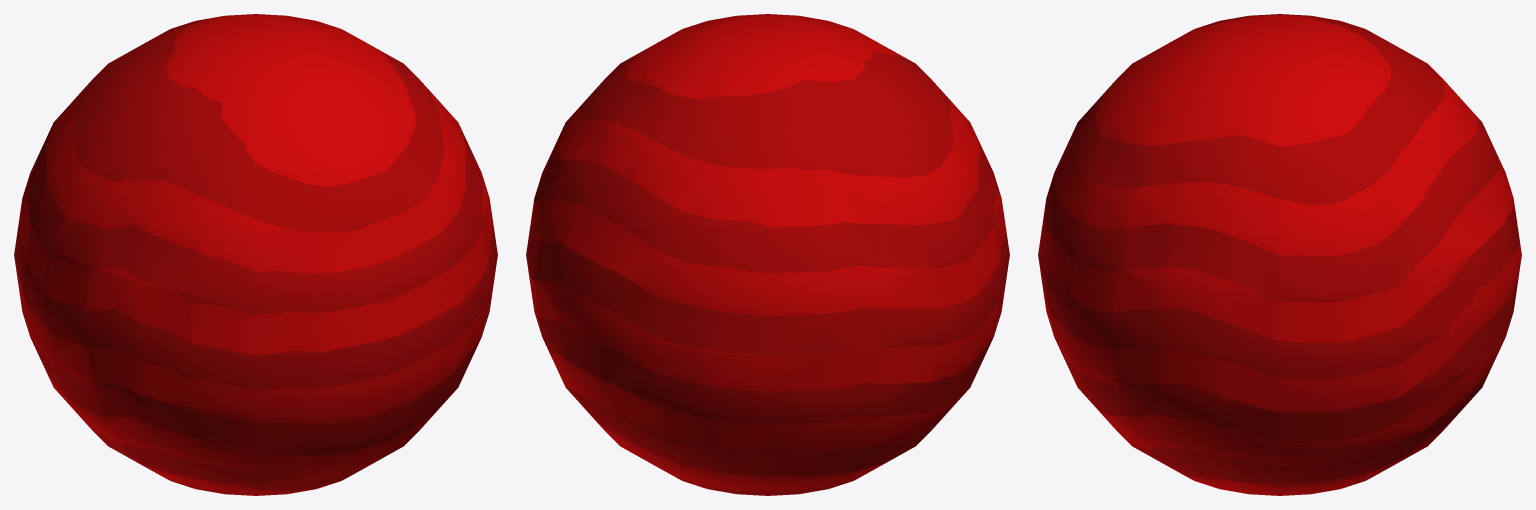
File: Stripes - rouge.fbx
The picture shows the model from 3 angles, left to right: view 1: azimuth 30°, elevation 25°; view 2: azimuth 150°, elevation 25°; view 3: azimuth 270°, elevation 25°; orthographic projection.
Visible parts, largest first — view 1: SketchUp.001; view 2: SketchUp.001; view 3: SketchUp.001.
Part boxes in pixels (<box>): SketchUp.001: <box>14,14,497,495</box>; SketchUp.001: <box>526,14,1009,495</box>; SketchUp.001: <box>1038,14,1521,495</box>.
Size of the model in its own units: 100 by 100 by 100.
